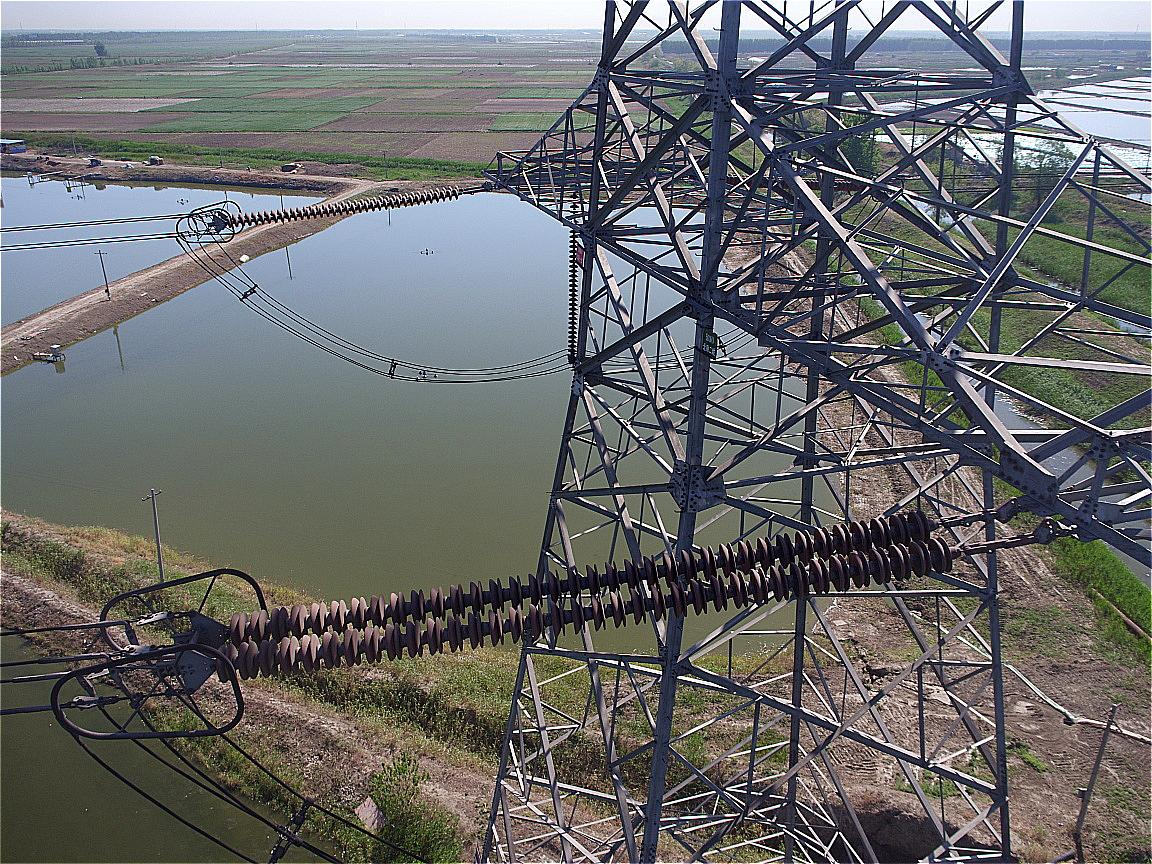insultor1: (229, 183, 460, 227)
insultor2: (214, 509, 952, 681)
